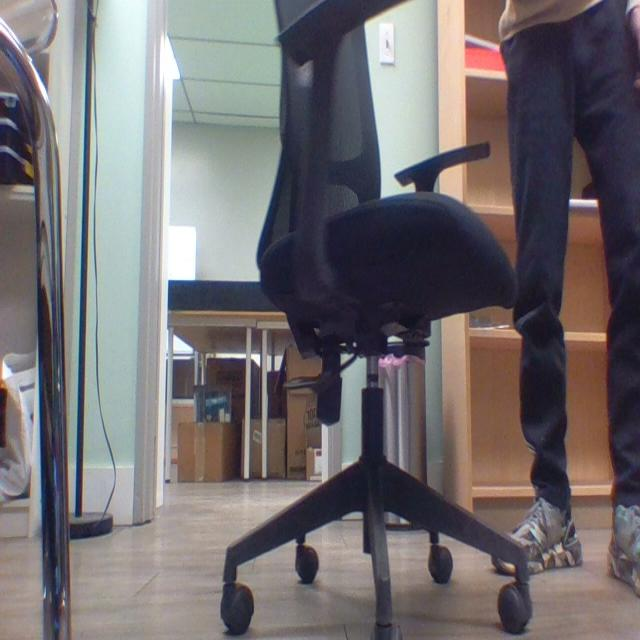black-chair: (216, 2, 534, 639)
